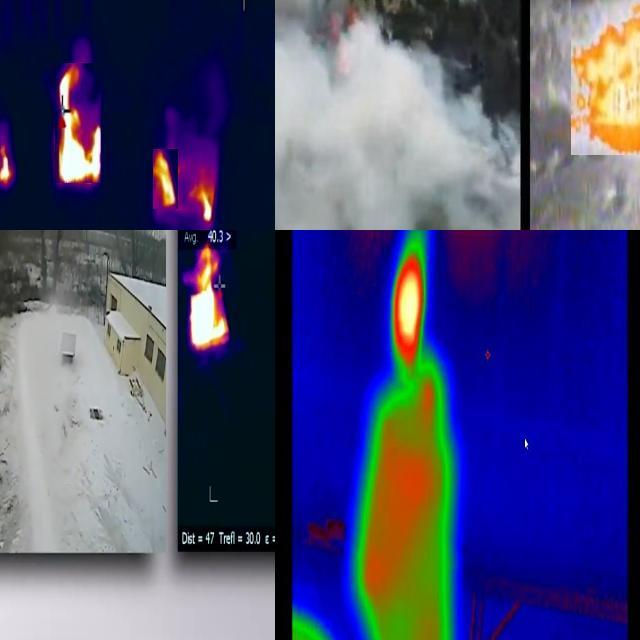fire: (572, 1, 640, 156), (56, 64, 102, 184), (391, 231, 429, 375), (189, 247, 227, 353), (154, 150, 179, 210), (199, 180, 215, 226), (1, 142, 15, 186)
